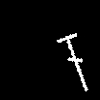double_crochet: (57, 33, 87, 90)
